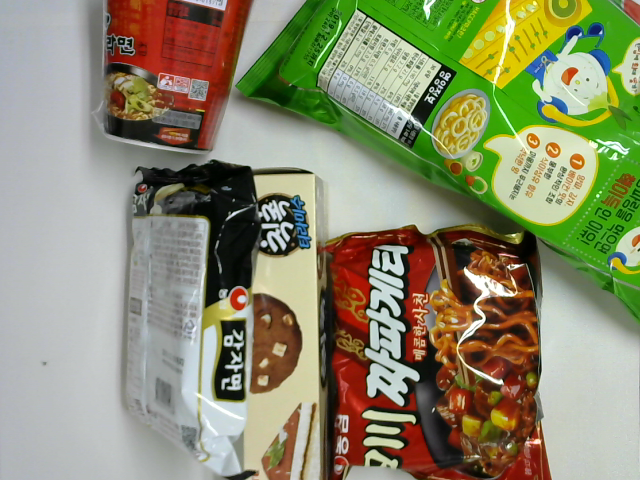Chicchok_Tiramisu: (239, 165, 330, 480)
Oninon_Ring: (234, 2, 640, 325)
Potato: (112, 159, 257, 480)
Sichuan_Chapaghetti: (321, 218, 548, 480)
Sinramen_small: (99, 1, 254, 156)
